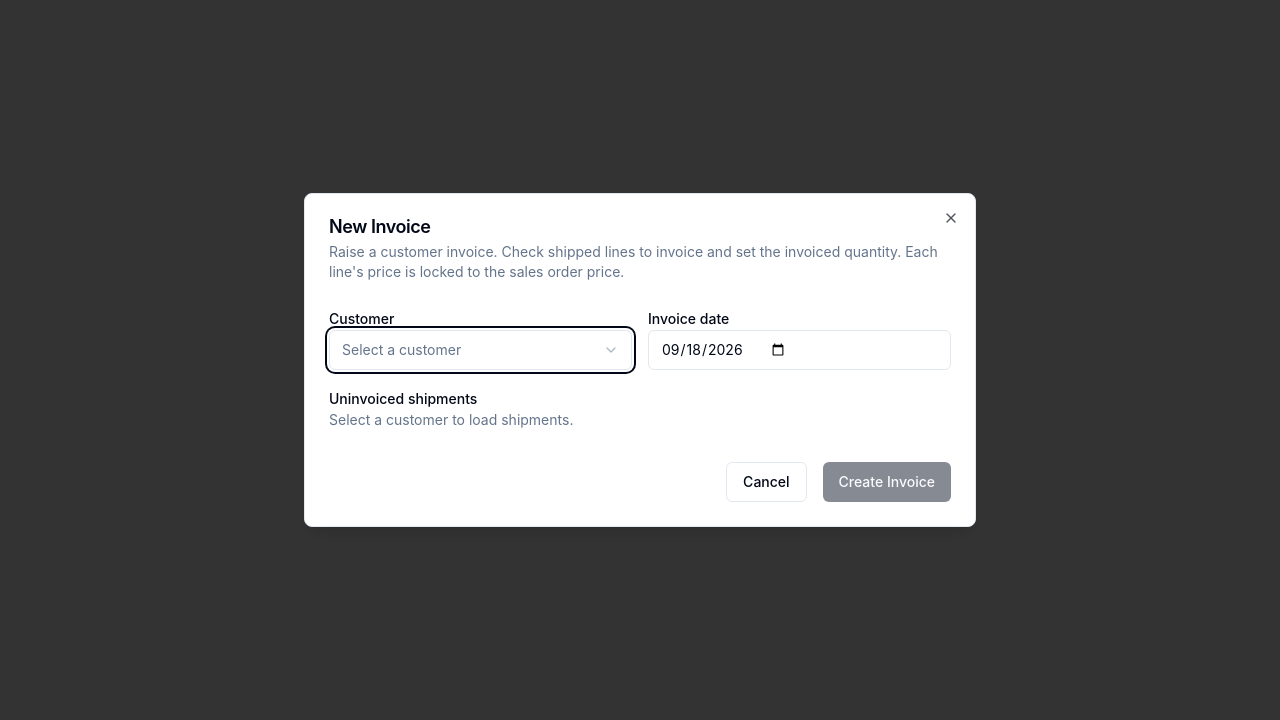
it: InvoiceCreateDialog › renders the shipment picker with uninvoiced_qty and a read-only locked price
Click the dropdown labelled "customer".
click(402, 350)  # box left=329, top=330, right=632, bottom=370
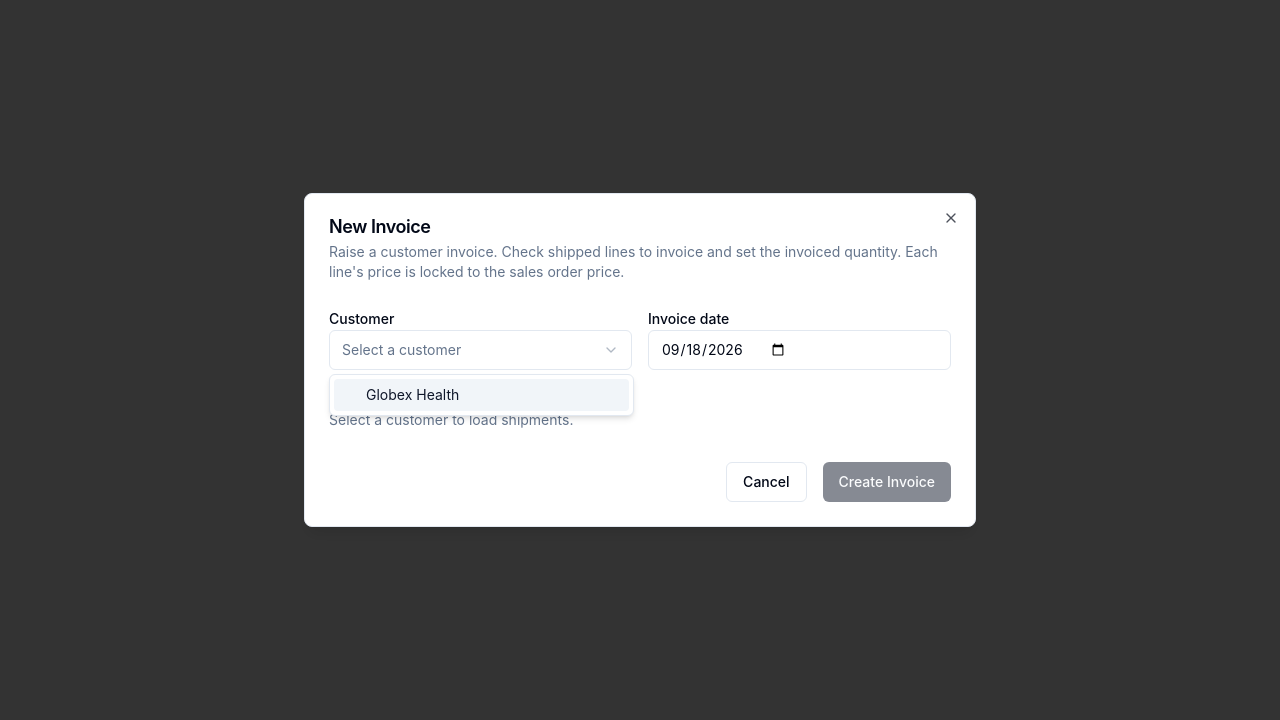
Click the option "Globex Health".
click(413, 394)  # box left=334, top=379, right=629, bottom=411
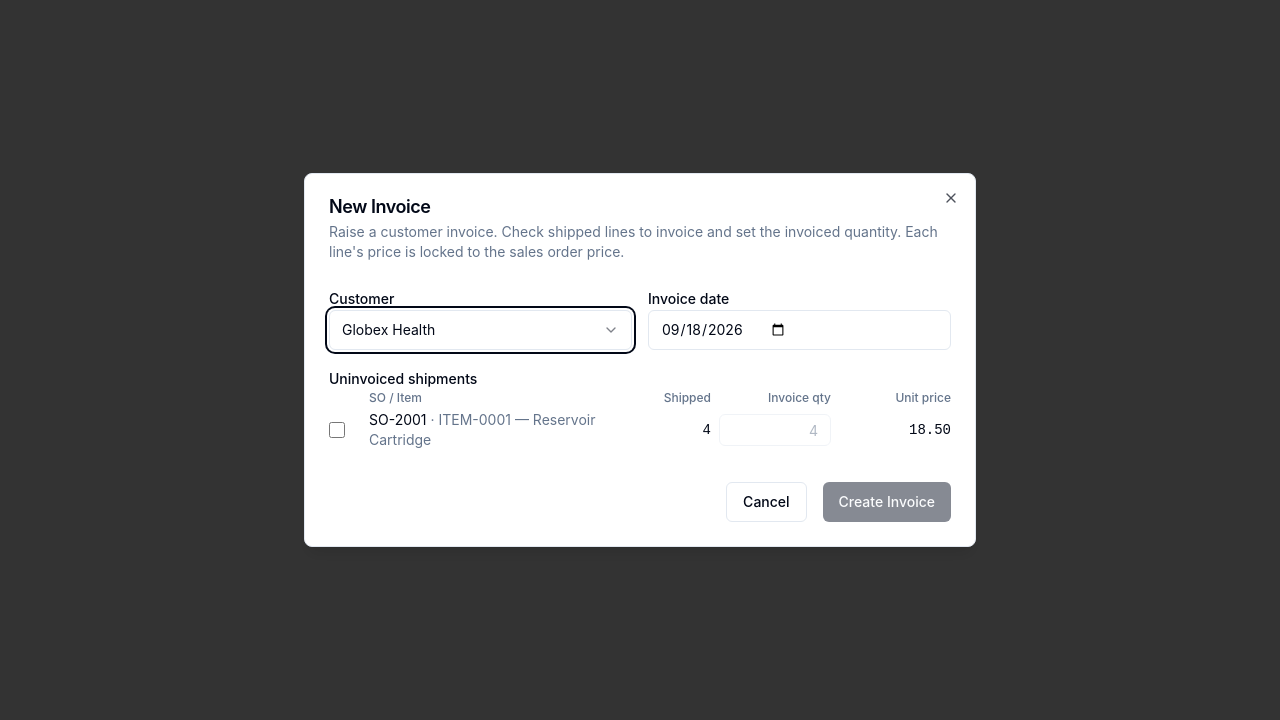
Check: the text "4" is shown, box left=703, top=422, right=711, bottom=438
Check: the text "· ITEM-0001 — Reservoir Cartridge" is shown, box left=369, top=411, right=596, bottom=448
Check: the text named "Unit price SO-2001" reads "18.50", box left=909, top=422, right=951, bottom=438
